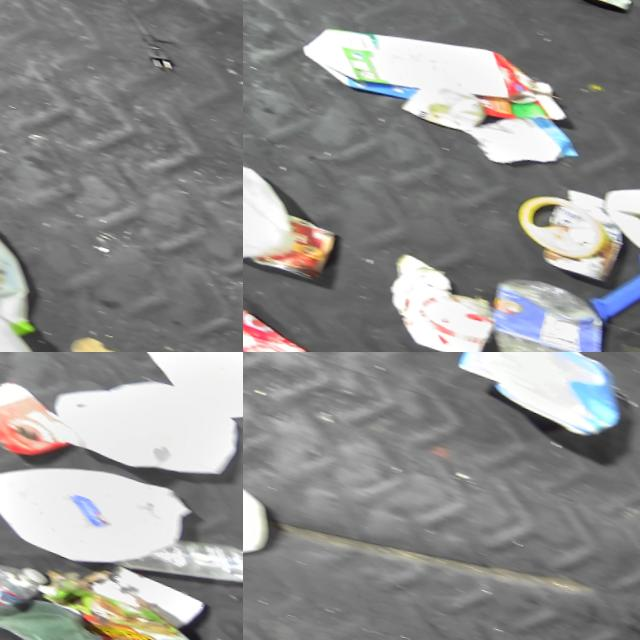can: (243, 195, 334, 283), (0, 358, 72, 464)
milk_jug: (0, 417, 194, 589), (34, 352, 243, 491), (243, 106, 302, 273), (0, 168, 57, 337)
plastic_bottle: (100, 497, 243, 607), (467, 253, 612, 352), (243, 276, 348, 352), (0, 525, 47, 639)
